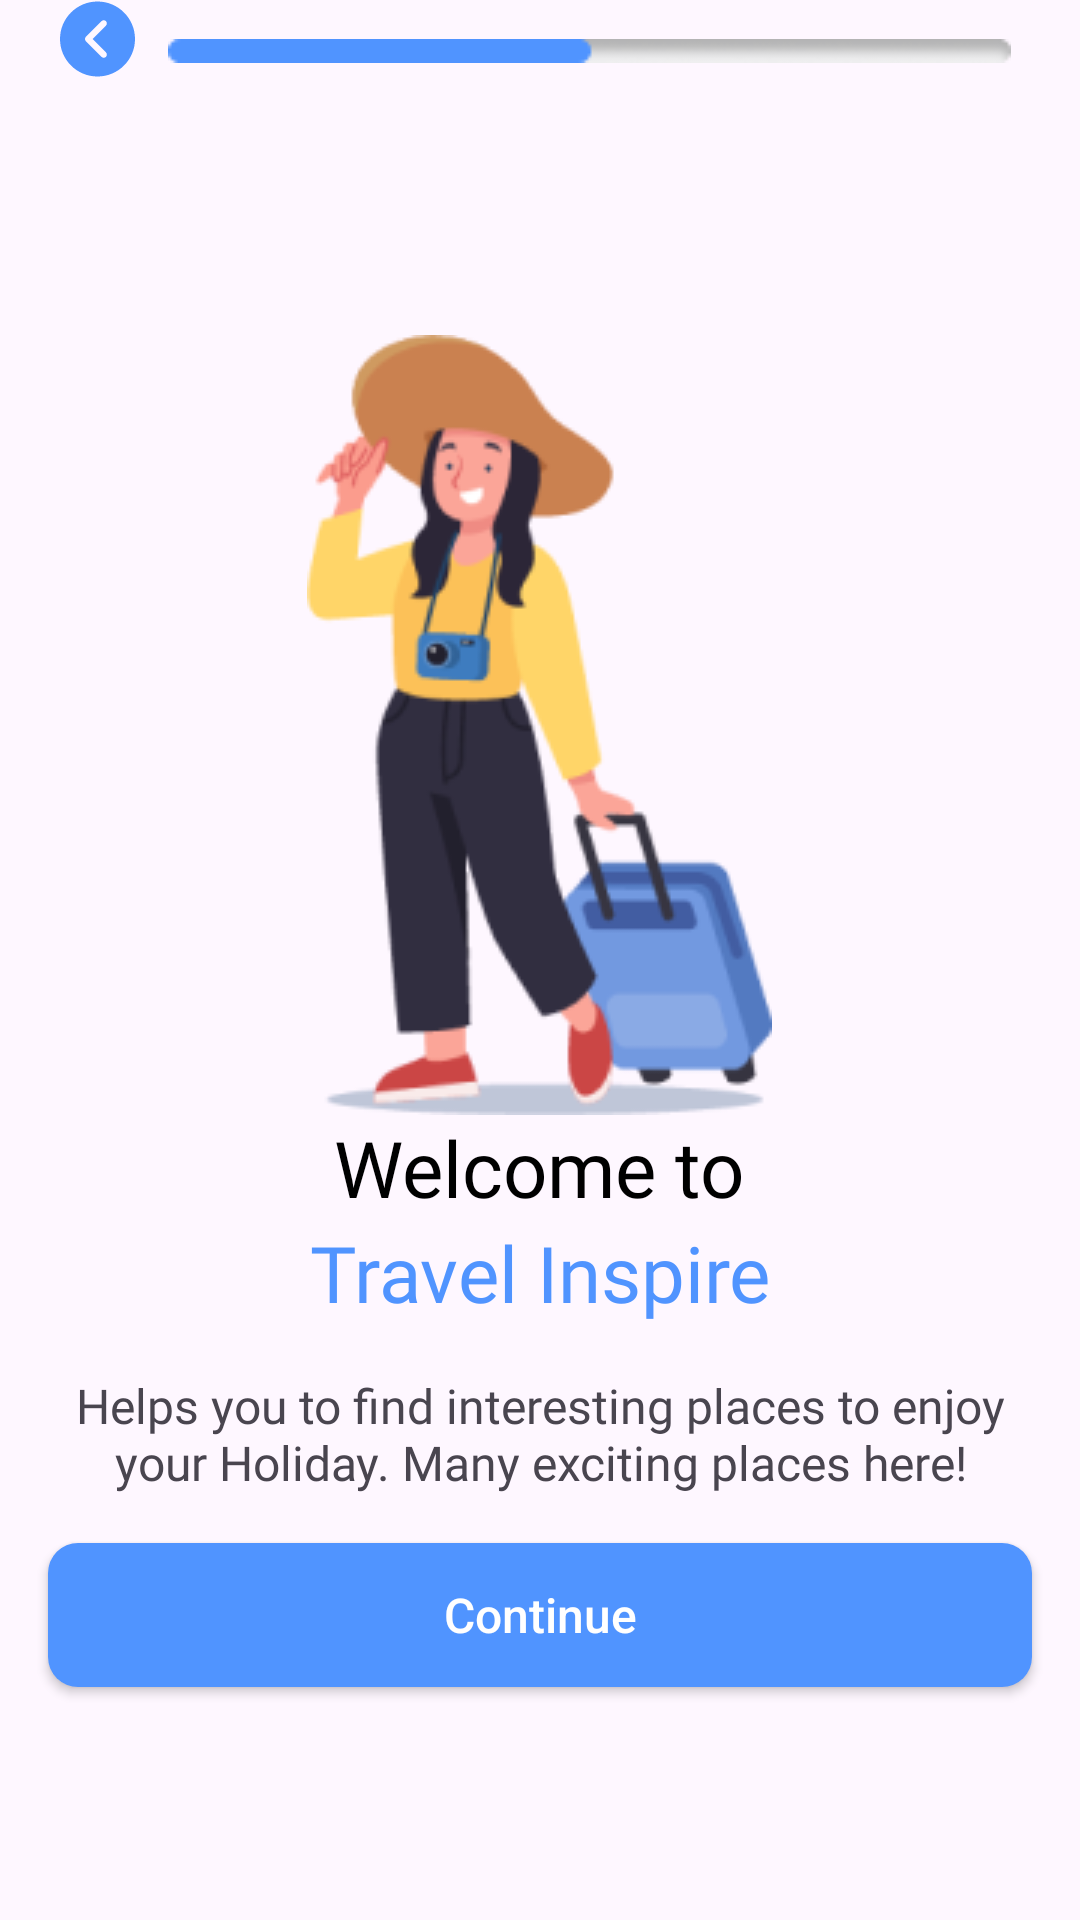

Icons on this 1080×1920 Android screen, each with its box as (x1, y1, x2, y2):
back: (60, 1, 135, 77)
